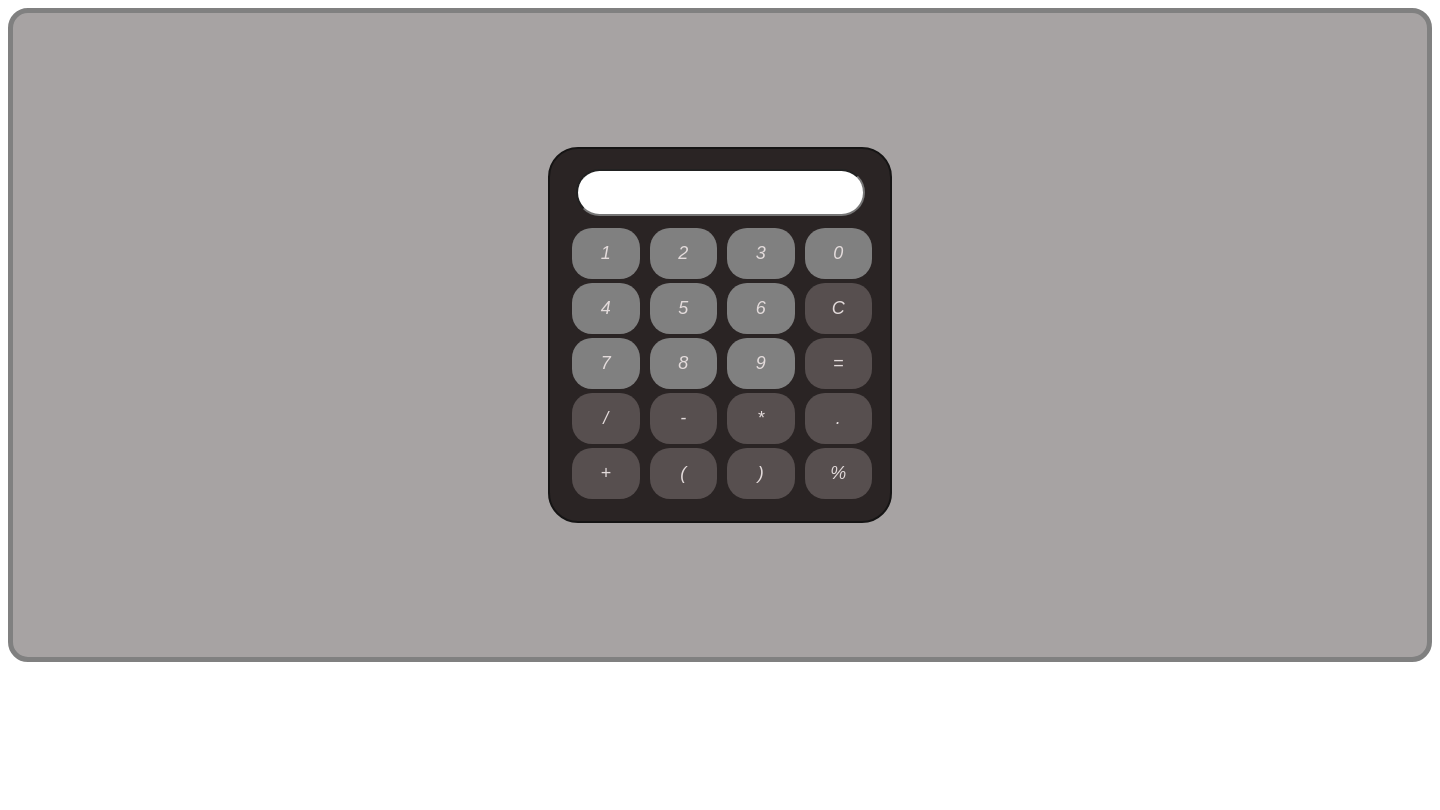
Calculator component › handles multiply operation
This screenshot has width=1440, height=810.
Click the button "8". click: (683, 363)
box: [650,338,717,389]
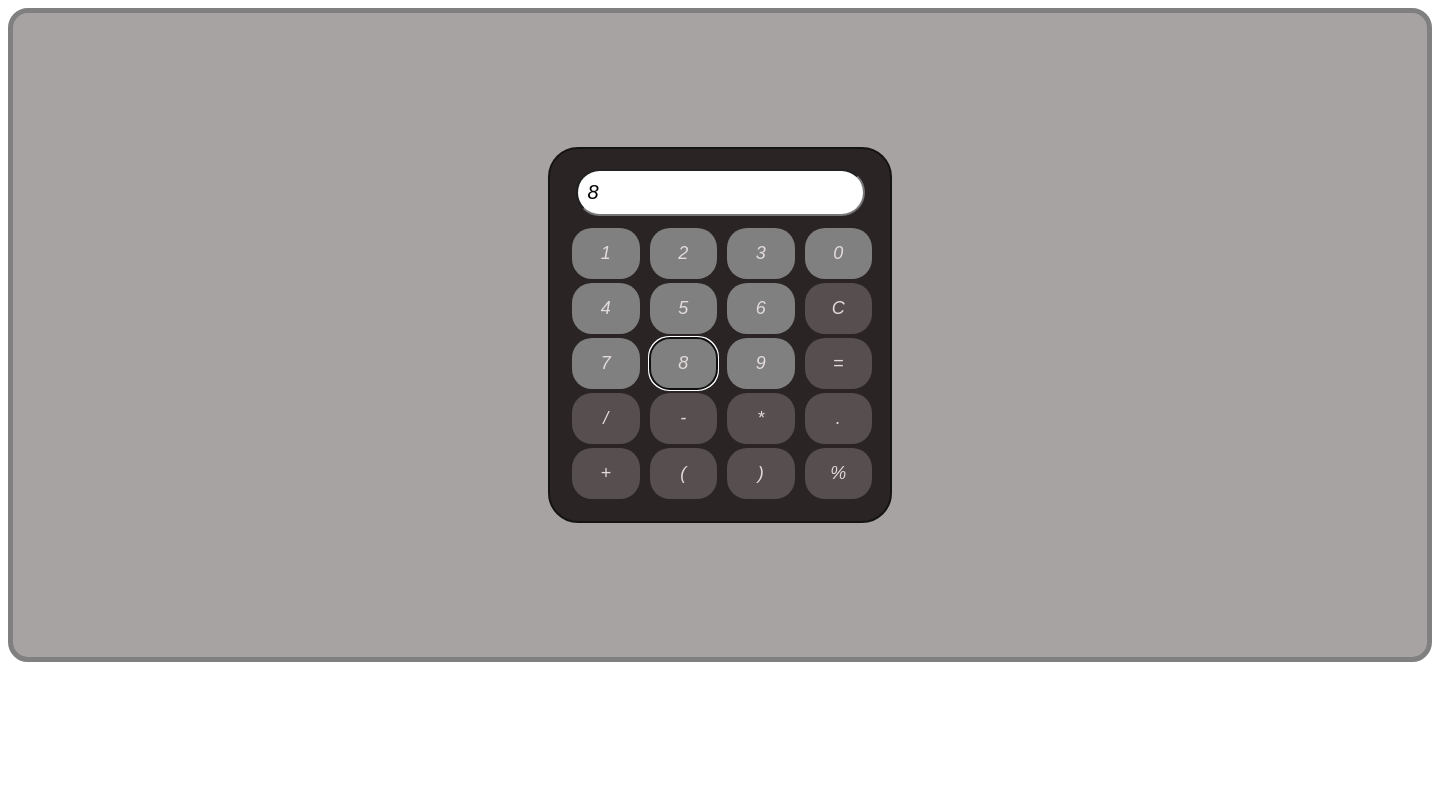
Click the button "*". click: (761, 418)
box: [727,393,794,444]
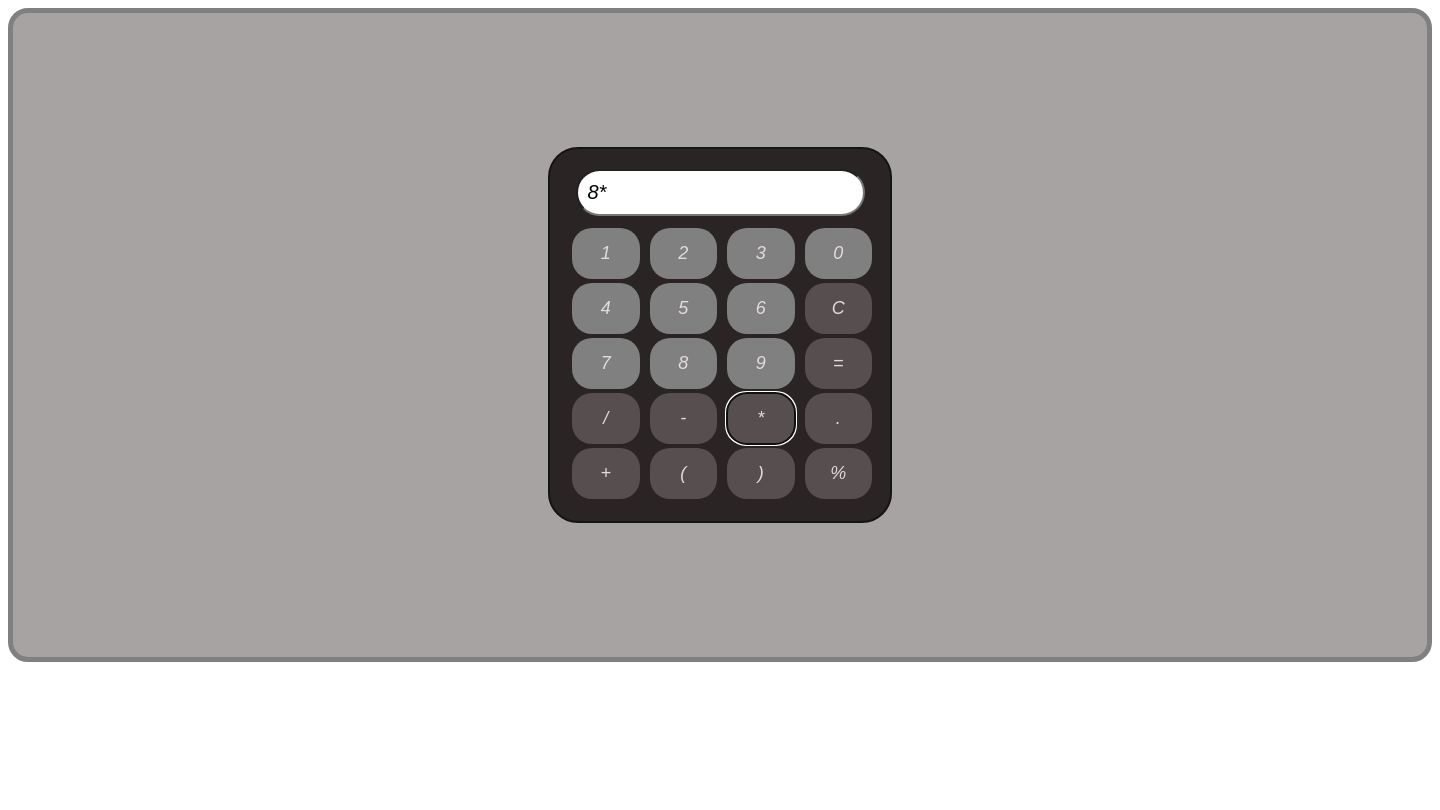
Click the button "2". click: (683, 253)
box: [650,228,717,279]
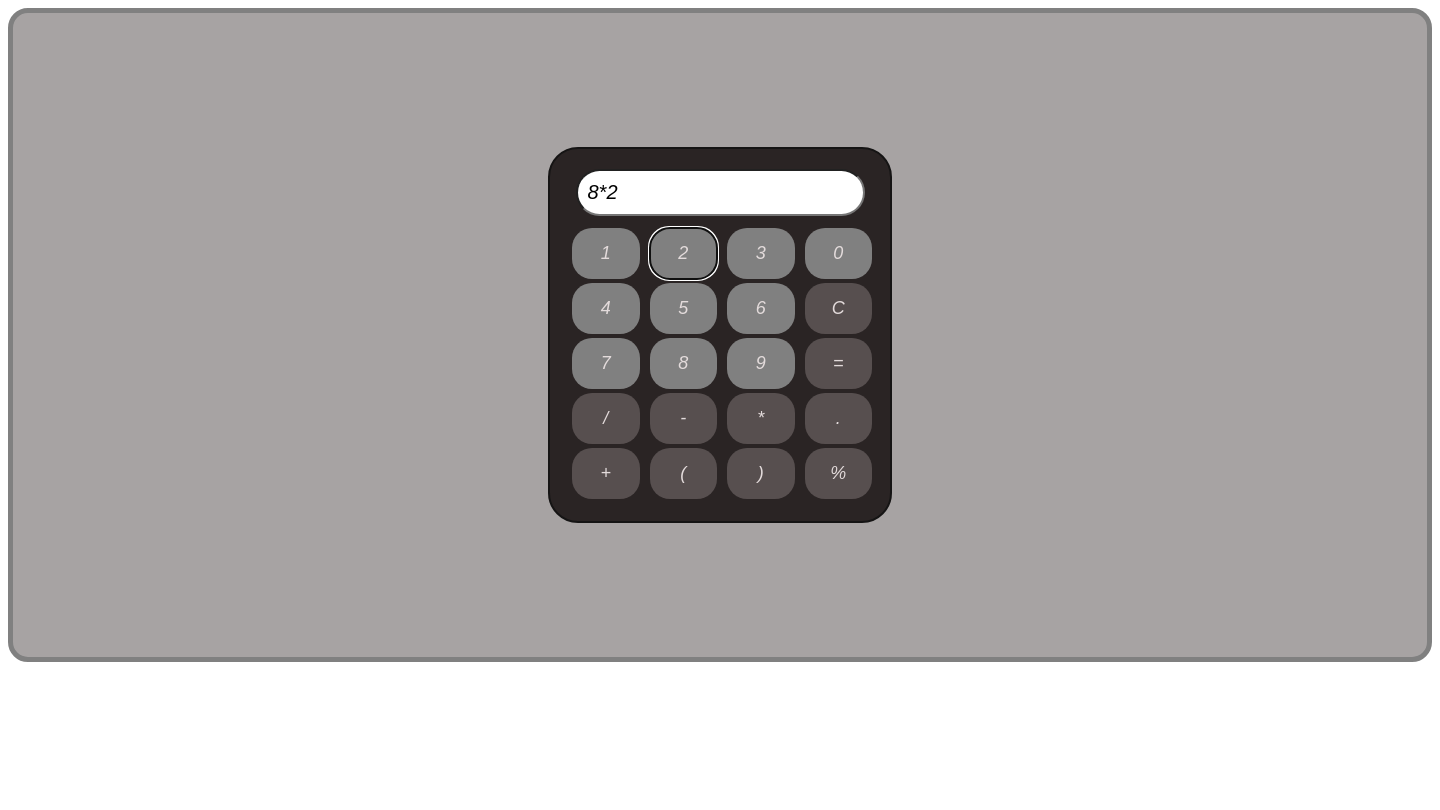
Click the button "=". click: (838, 363)
box: [804,338,872,389]
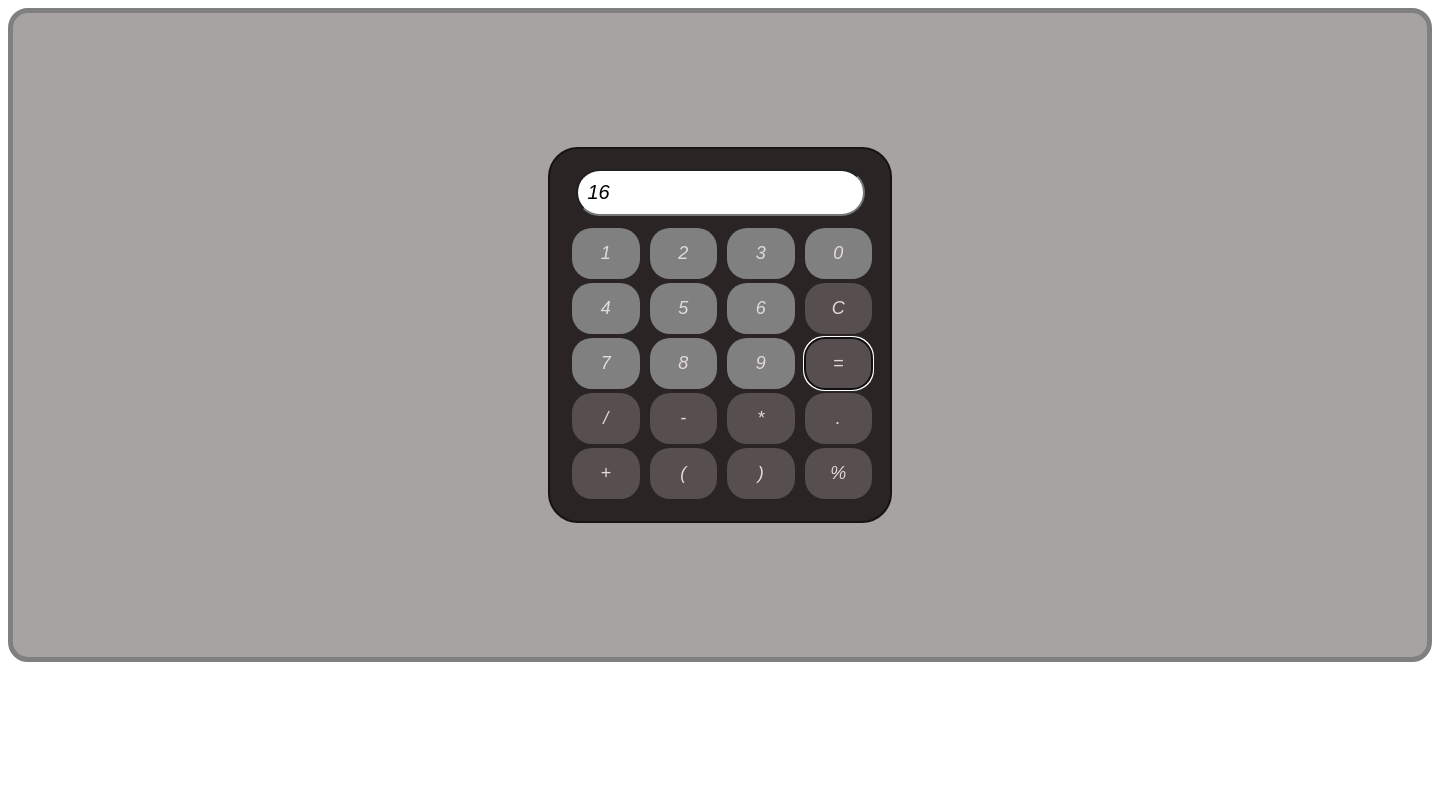
Expected: the field holds "16", [576,169,864,216]
